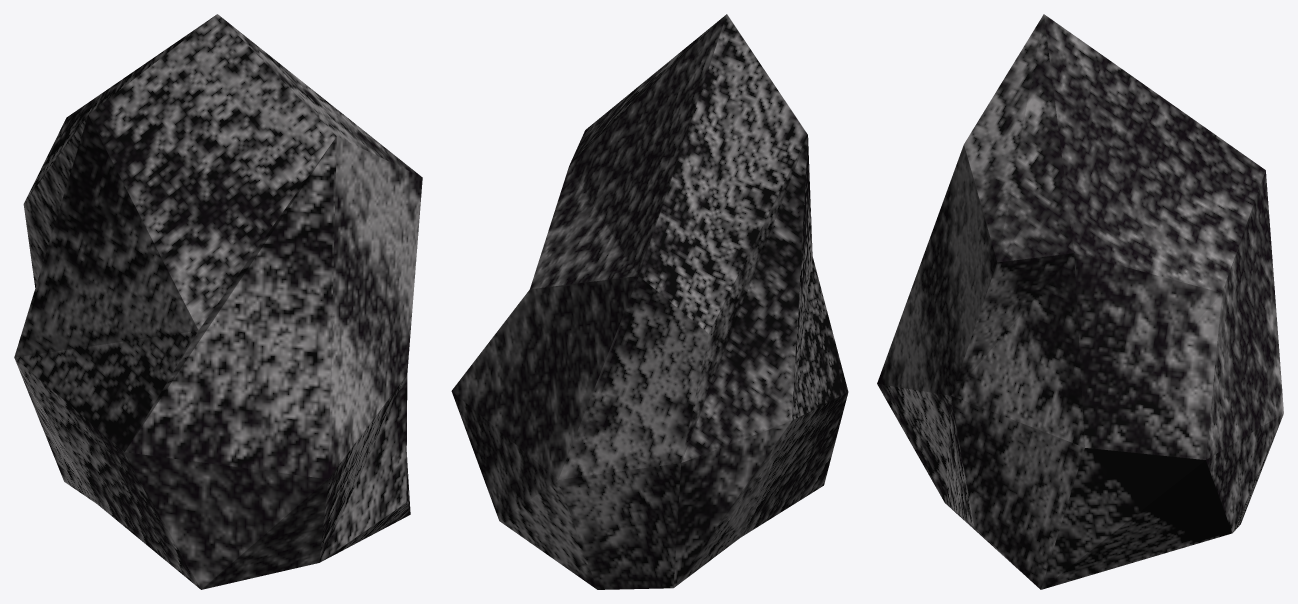
The model's file is possible3.obj.
The picture shows the model from 3 angles, left to right: view 1: azimuth 30°, elevation 25°; view 2: azimuth 150°, elevation 25°; view 3: azimuth 270°, elevation 25°; orthographic projection. The views are drawn at different scales.
Visible parts, largest first — view 1: Cube; view 2: Cube; view 3: Cube.
Part boxes in pixels (left/top/right/bottom): Cube: left=14, top=14, right=422, bottom=589; Cube: left=451, top=14, right=848, bottom=589; Cube: left=877, top=14, right=1283, bottom=589.
Bounding box in the file's own units: 3.09 × 4.72 × 3.5.
